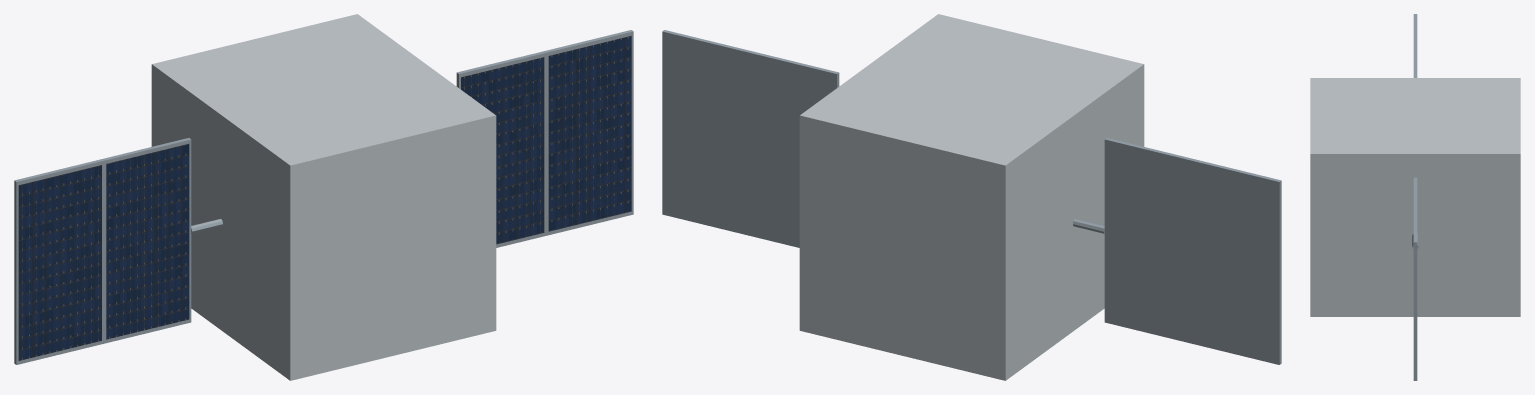
Rendered from ref-petrel-69503.glb.
3 views of the same model, side by side, from view 1: azimuth 30°, elevation 25°; view 2: azimuth 150°, elevation 25°; view 3: azimuth 270°, elevation 25° (orthographic). The views are drawn at different scales.
Parts seen in each view (by area): view 1: Spacecraft body, Photovoltaic laminates (×4), Array frame (×4); view 2: Spacecraft body, Array frame (×4); view 3: Spacecraft body, Array frame.
Part boxes in pixels (bbox=[...]): Spacecraft body: bbox=[151, 14, 496, 380]; Photovoltaic laminates (×4): bbox=[18, 36, 631, 360]; Array frame (×4): bbox=[14, 30, 633, 364]; Spacecraft body: bbox=[799, 14, 1144, 380]; Array frame (×4): bbox=[662, 30, 1281, 364]; Spacecraft body: bbox=[1310, 78, 1520, 316]; Array frame: bbox=[1413, 210, 1417, 380].
Size of the model in its own units: 1.8 by 0.6 by 0.7.
Materials: 3 (1 with a texture image).
